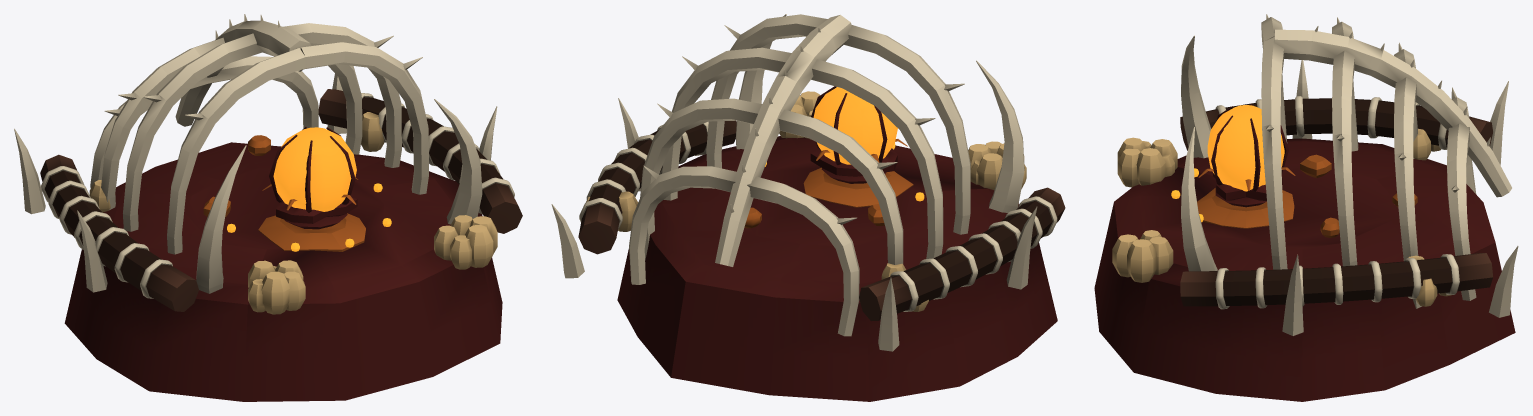
File: brood-hive-amnion.glb
The picture shows the model from 3 angles, left to right: view 1: azimuth 30°, elevation 25°; view 2: azimuth 150°, elevation 25°; view 3: azimuth 270°, elevation 25°; orthographic projection.
Parts seen in each view (by area): view 1: site_brood_hive_amnion_body, site_brood_hive_amnion_core, site_brood_hive_amnion_ruin; view 2: site_brood_hive_amnion_body, site_brood_hive_amnion_core, site_brood_hive_amnion_ruin; view 3: site_brood_hive_amnion_body, site_brood_hive_amnion_core, site_brood_hive_amnion_ruin.
Boxes of the visible parts, x1,y1,x2,y2 form: site_brood_hive_amnion_body: (14,14,522,401); site_brood_hive_amnion_core: (269,127,356,212); site_brood_hive_amnion_ruin: (262,178,358,223); site_brood_hive_amnion_body: (551,14,1065,401); site_brood_hive_amnion_core: (811,86,897,165); site_brood_hive_amnion_ruin: (810,139,907,176); site_brood_hive_amnion_body: (1094,14,1518,401); site_brood_hive_amnion_core: (1207,103,1288,191); site_brood_hive_amnion_ruin: (1198,167,1295,200).
Size of the model in its own units: 5.11 by 3.34 by 4.52.
